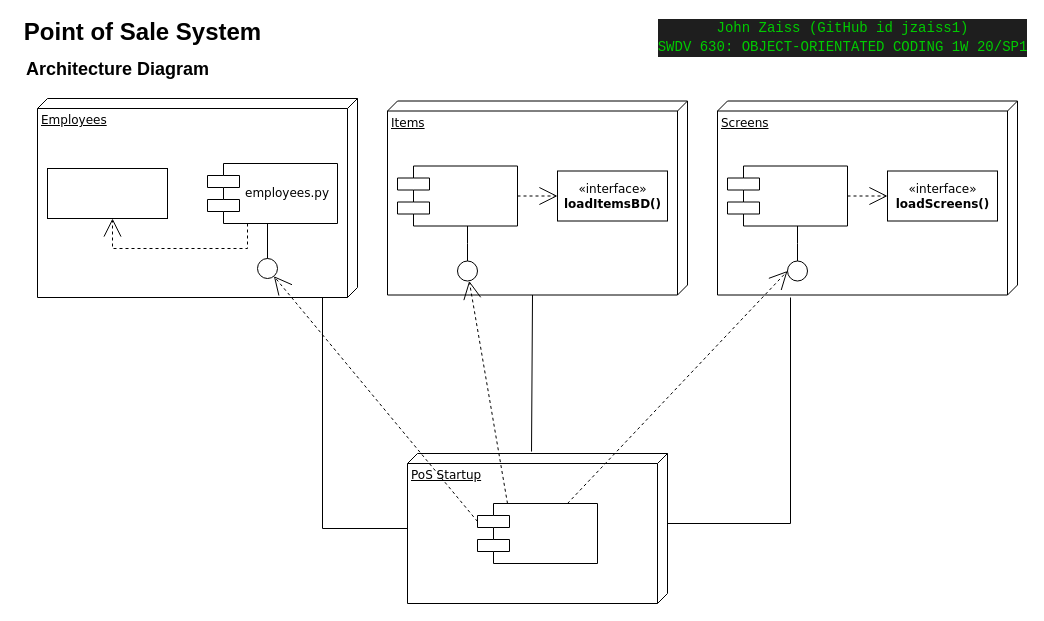
Some shapes in this 1044 by 621 pixel diagram are drawn without their labels. Each missing label, with the centre of its shape:
Bootstrap: the point at 537,533
itemsDB.py: the point at 457,195
screens.py: the point at 787,195
«interface» loadEmployees(): the point at 107,193
